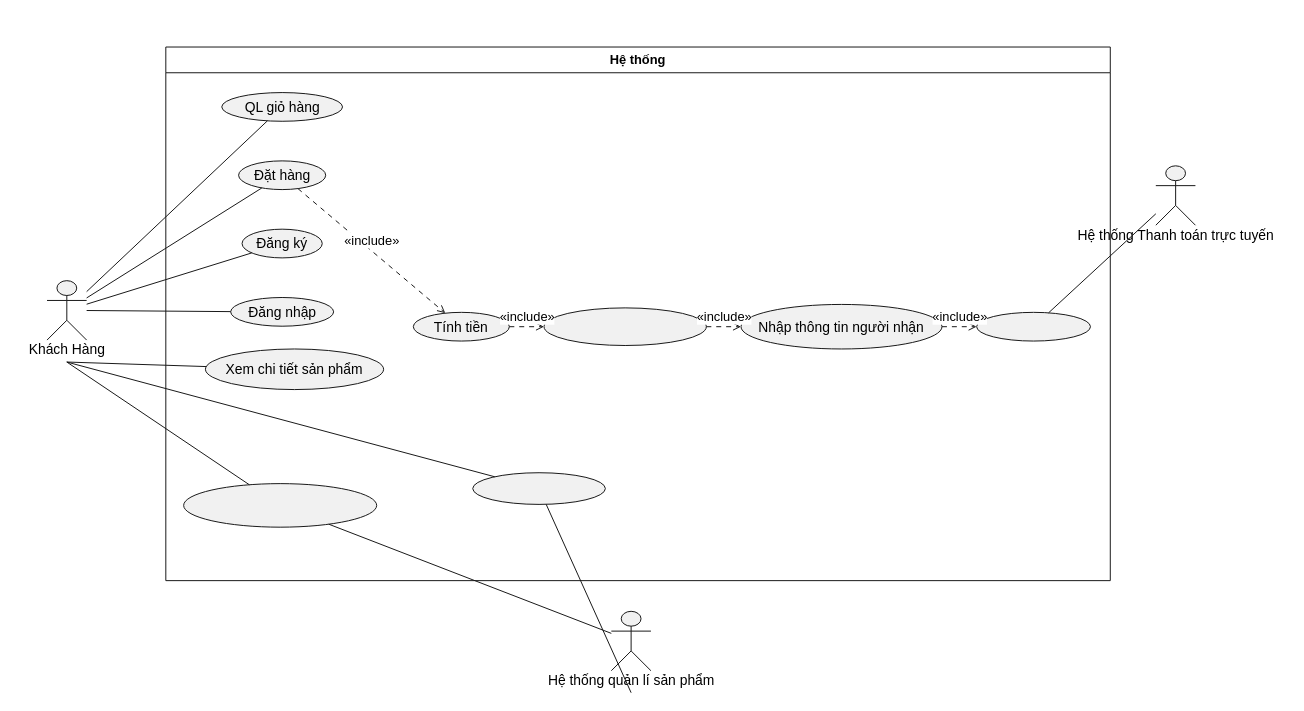
Image size: 1304x711. Some labels were removed from this diagram. Each missing label, with the box of its shape:
Chọn loại giao hàng: (543, 307, 706, 346)
Thanh toán: (976, 311, 1090, 341)
Xem danh mục sản phẩm: (183, 483, 377, 527)
Xem sản phẩm: (472, 472, 605, 504)
